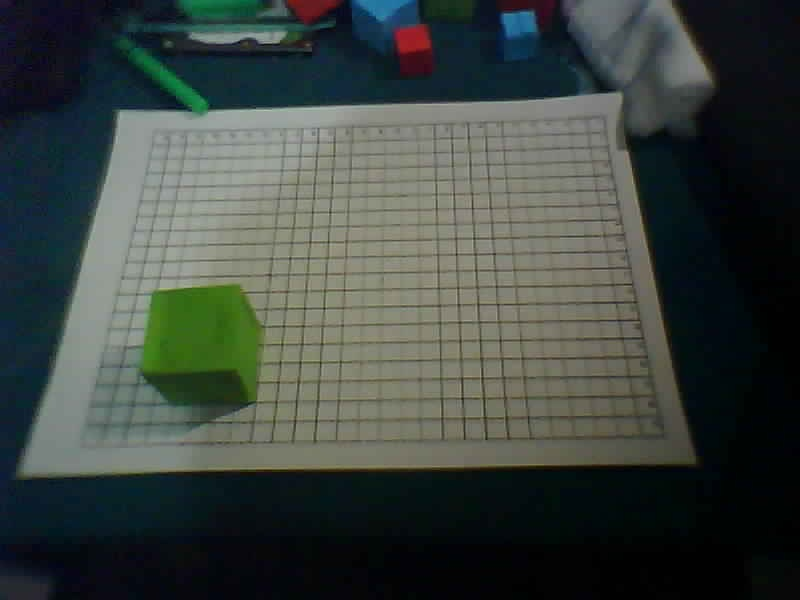LB: (77, 442, 85, 448)
LT: (151, 126, 159, 132)
RB: (659, 433, 667, 439)
RT: (601, 115, 609, 121)
